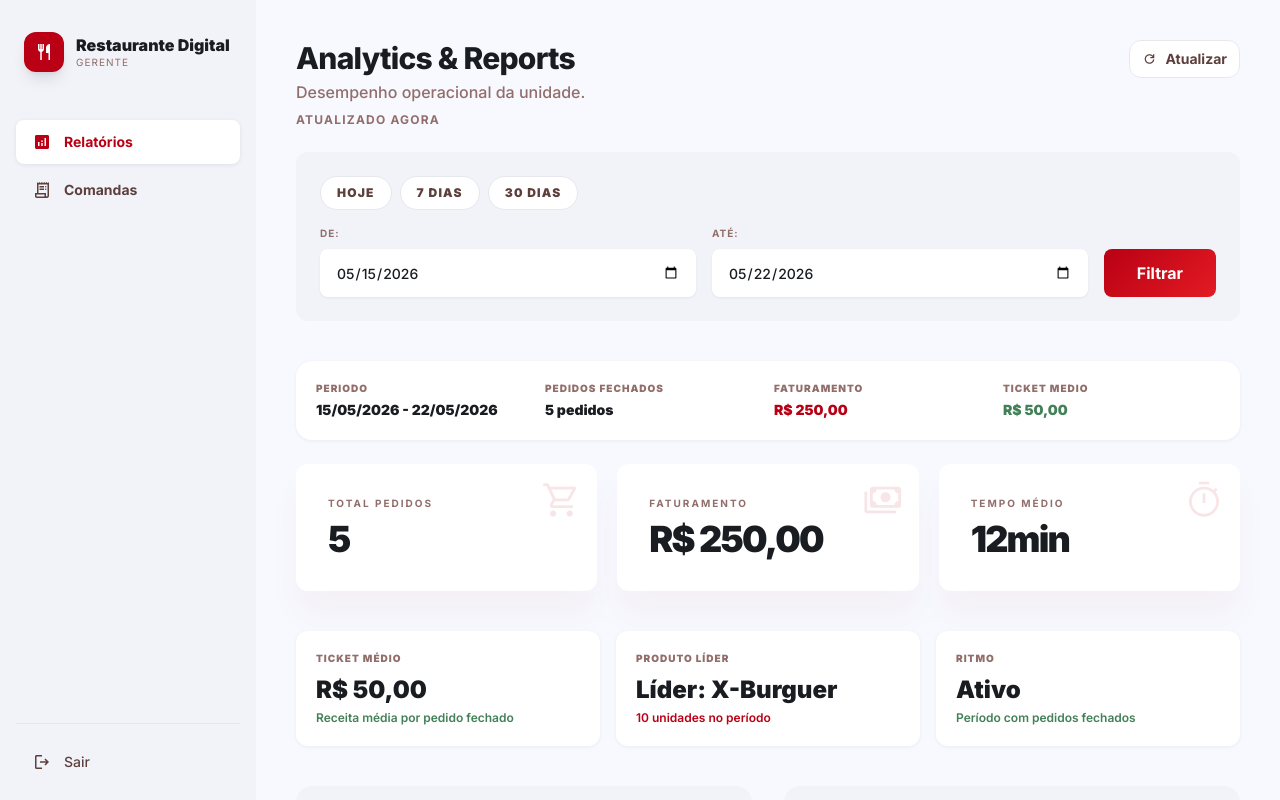
Test case: GerentePage › troca para aba Comandas ao clicar no nav item da sidebar
Check: the text "5" is shown, box [328,519,350,559]
What coordinates should you click on to do the following:
click the button "Comandas"
I would click on:
 (128, 190)
Its box is [16,168,240,212].
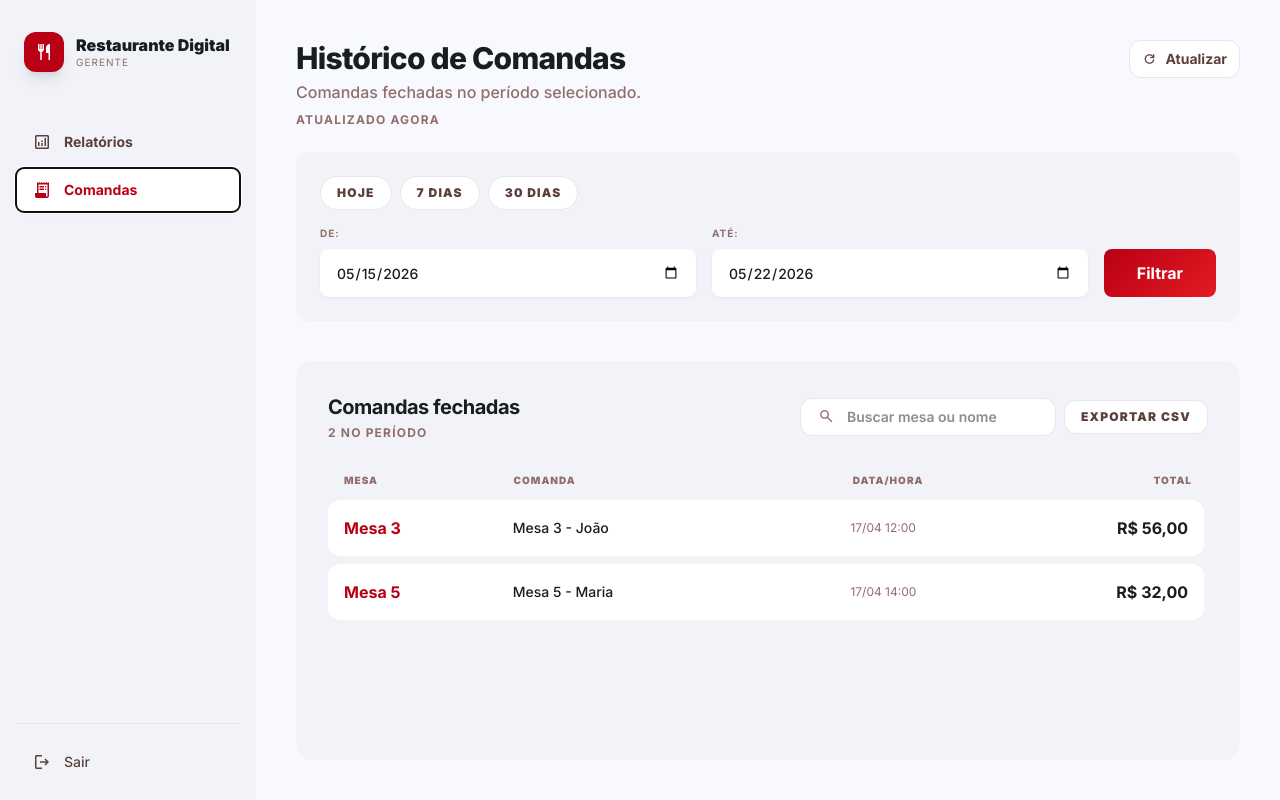
Check: the heading "Histórico de Comandas" is shown, box [296,40,641,76]
Check: the heading "Comandas fechadas" is shown, box [328,393,520,421]
